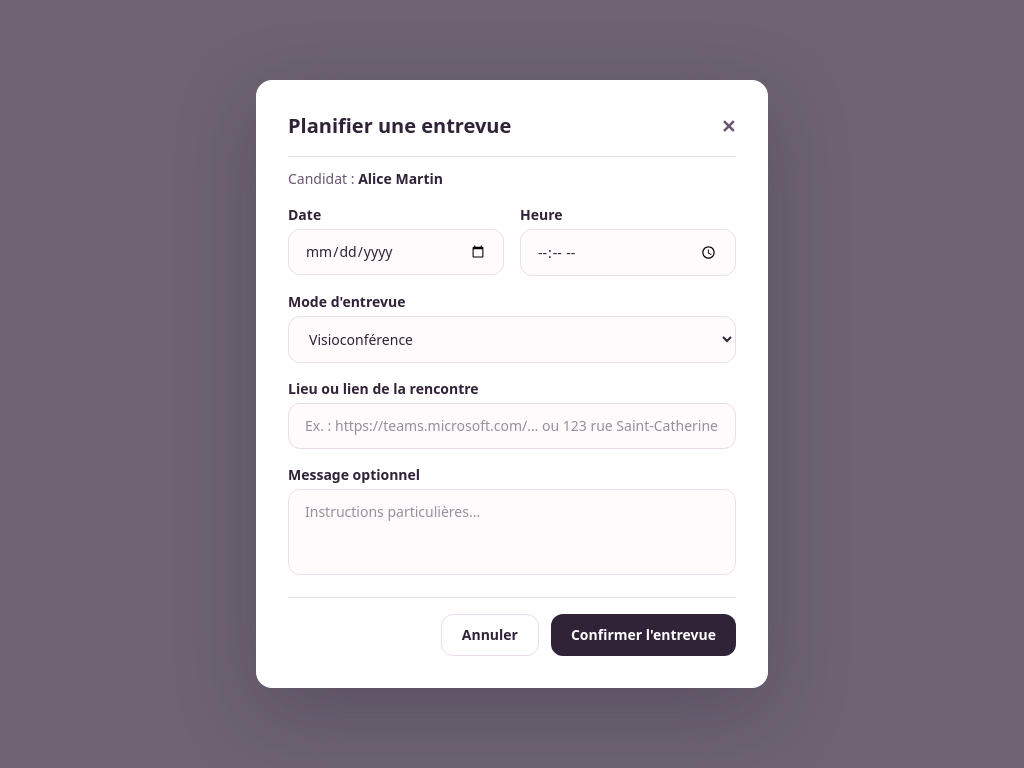
Test: En tant qu'employeur, je planifie une entrevue (formulaire) › refuse un formulaire vide sans appeler l'API
Click the button "Confirmer l'entrevue": coordinates (643, 635) [551, 614, 736, 656]
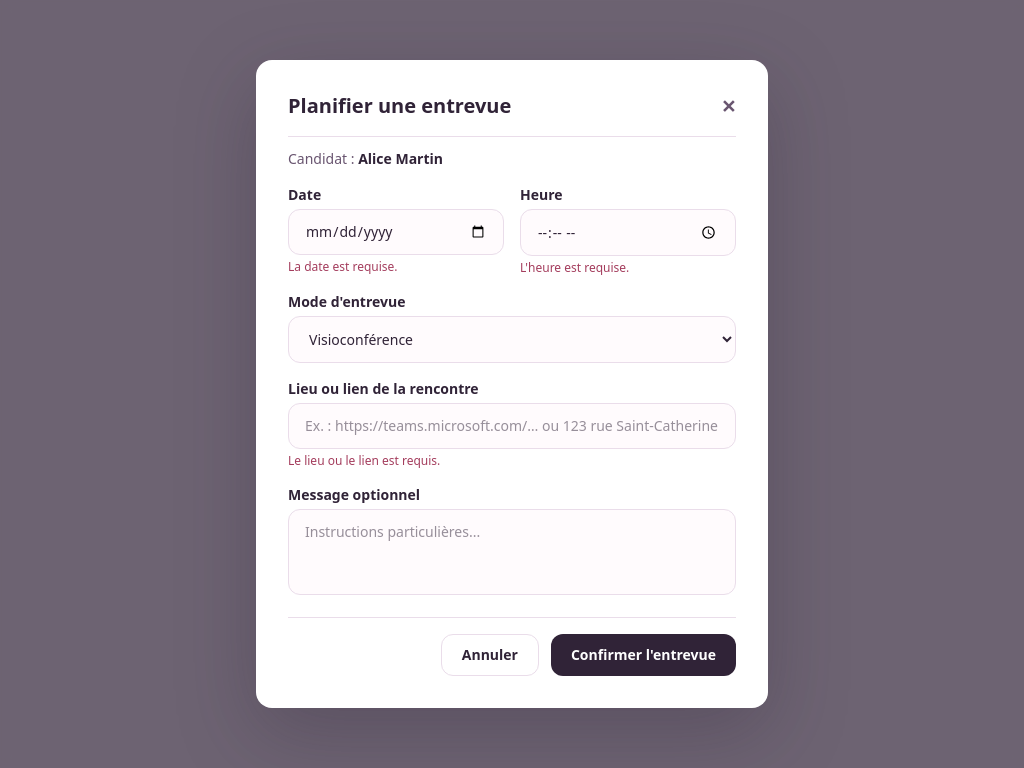
Expected: the text "La date est requise." is shown, [288, 258, 398, 275]
Expected: the text "L'heure est requise." is shown, [520, 259, 629, 276]
Expected: the text "Le lieu ou le lien est requis." is shown, [288, 452, 440, 469]
